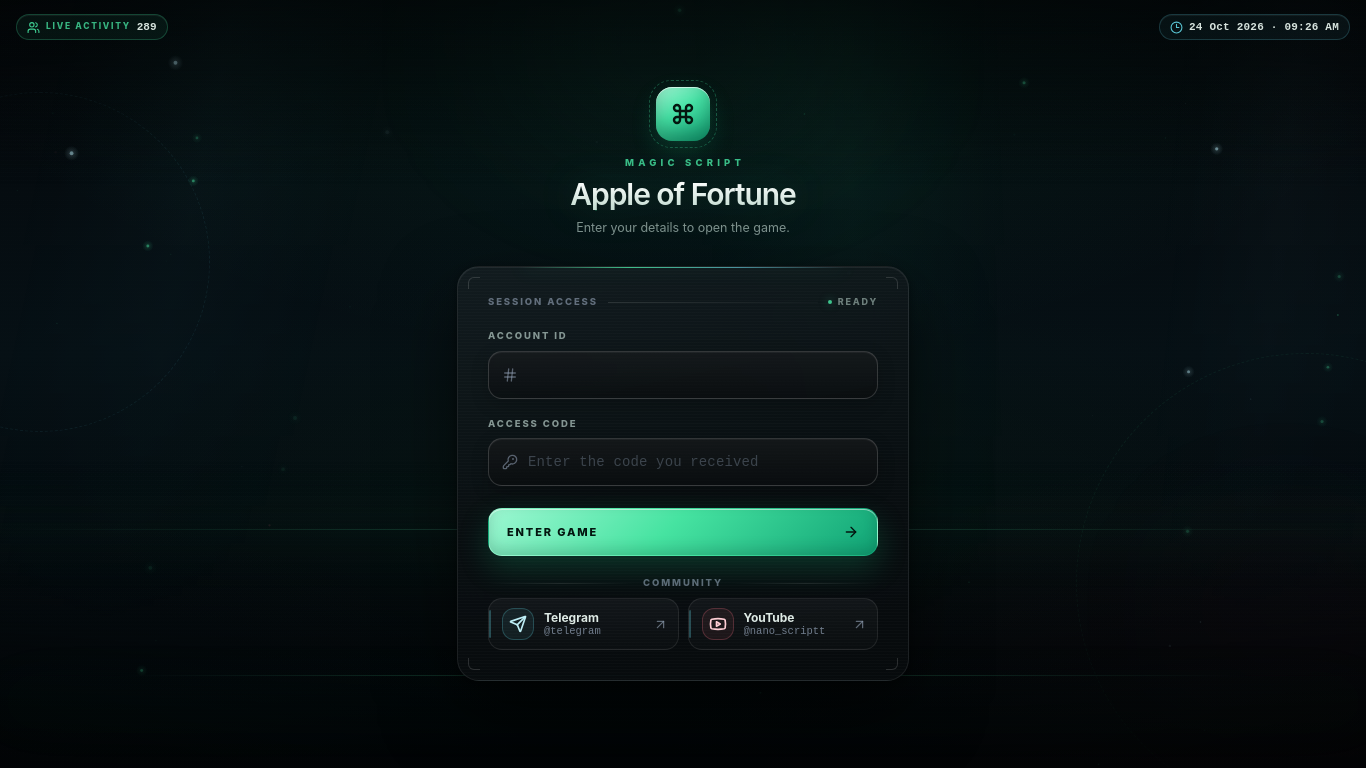
Test case: Apple of Fortune login screen › strips non-digits from the Account ID input
Type "12a3-456b789" into the field labelled "Account ID". click: (696, 375)
box: top-left (528, 352), bottom-right (864, 398)
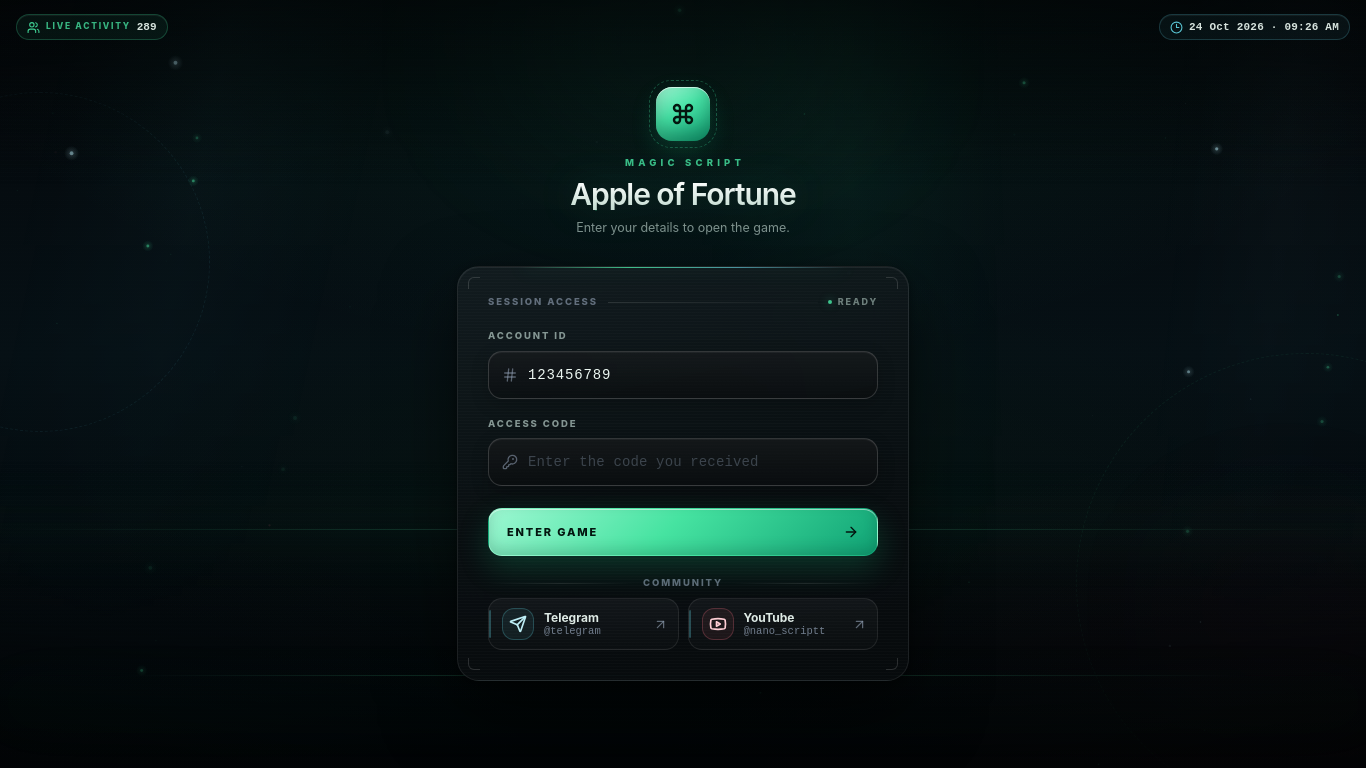
Now the field labelled "Account ID" holds "123456789", box top-left (528, 352), bottom-right (864, 398)
